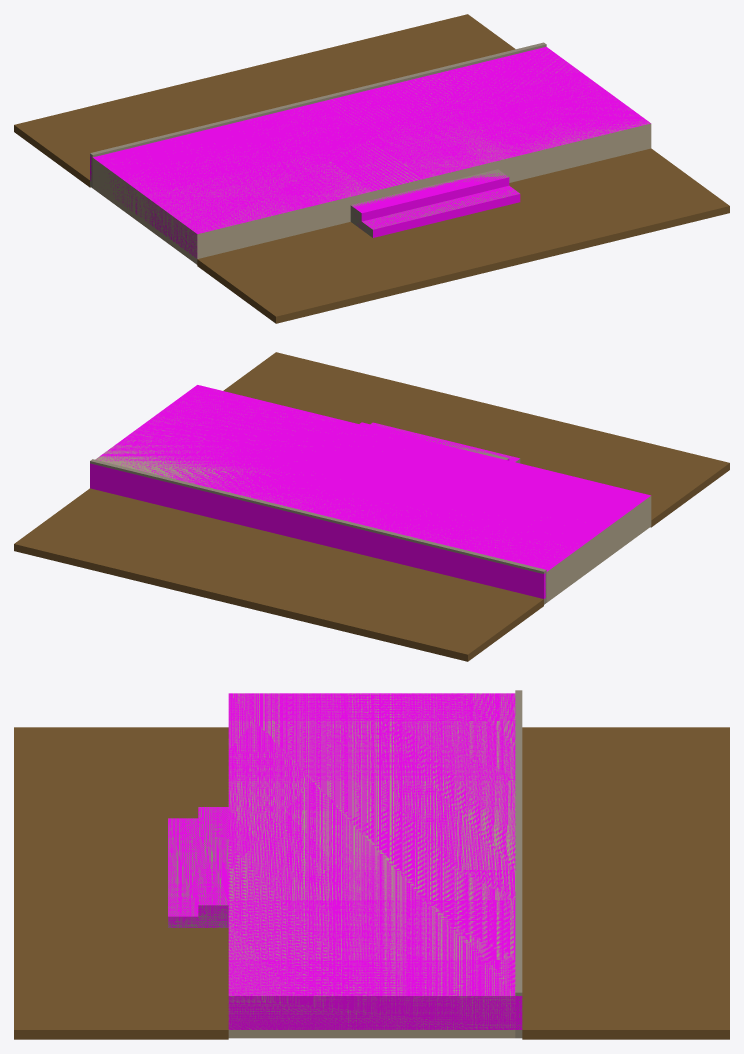
The model's file is barrio-abajo-suelo-anden-escalon.glb.
3 renders of one model, top to bottom at view 1: azimuth 30°, elevation 25°; view 2: azimuth 150°, elevation 25°; view 3: azimuth 270°, elevation 25°, orthographic. The views are drawn at different scales.
Visible parts, largest first — view 1: suelo_anden_escalon_Tierra, COL_Anden.001, suelo_anden_escalon_AndenAlto, suelo_anden_escalon_Piedra, COL_Escalon_2, COL_Escalon_1; view 2: suelo_anden_escalon_Tierra, COL_Anden.001, suelo_anden_escalon_AndenAlto, suelo_anden_escalon_Piedra; view 3: suelo_anden_escalon_Tierra, COL_Anden.001, suelo_anden_escalon_AndenAlto, suelo_anden_escalon_Piedra, COL_Escalon_1, COL_Escalon_2.
Boxes of the visible parts, x1,y1,x2,y2 form: suelo_anden_escalon_Tierra: (14,14,729,323); COL_Anden.001: (90,47,650,258); suelo_anden_escalon_AndenAlto: (92,50,651,264); suelo_anden_escalon_Piedra: (90,42,546,237); COL_Escalon_2: (362,185,520,237); COL_Escalon_1: (351,173,509,228); suelo_anden_escalon_Tierra: (14,352,729,661); COL_Anden.001: (90,385,650,598); suelo_anden_escalon_AndenAlto: (95,395,651,602); suelo_anden_escalon_Piedra: (90,423,546,604); suelo_anden_escalon_Tierra: (14,727,729,1039); COL_Anden.001: (228,693,522,1029); suelo_anden_escalon_AndenAlto: (228,693,515,1038); suelo_anden_escalon_Piedra: (168,690,522,1038); COL_Escalon_1: (198,807,228,927); COL_Escalon_2: (168,818,198,927).
Bounding box in the file's own units: 8 × 0.58 × 8.
